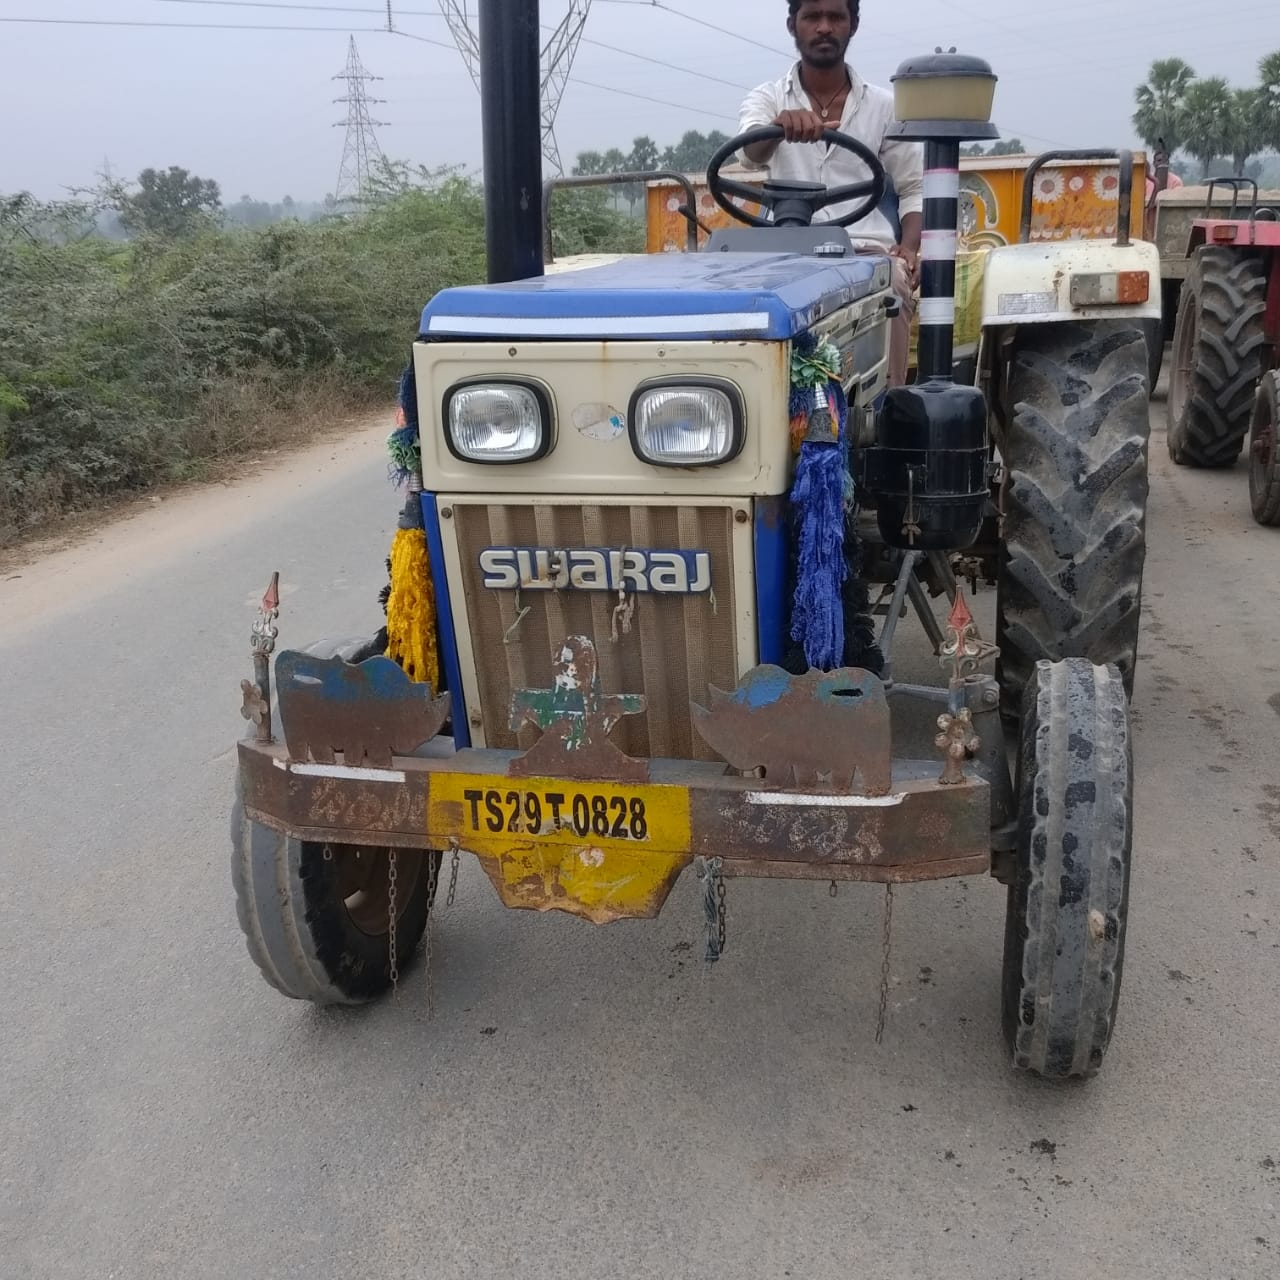num_plate: (434, 774, 688, 852)
